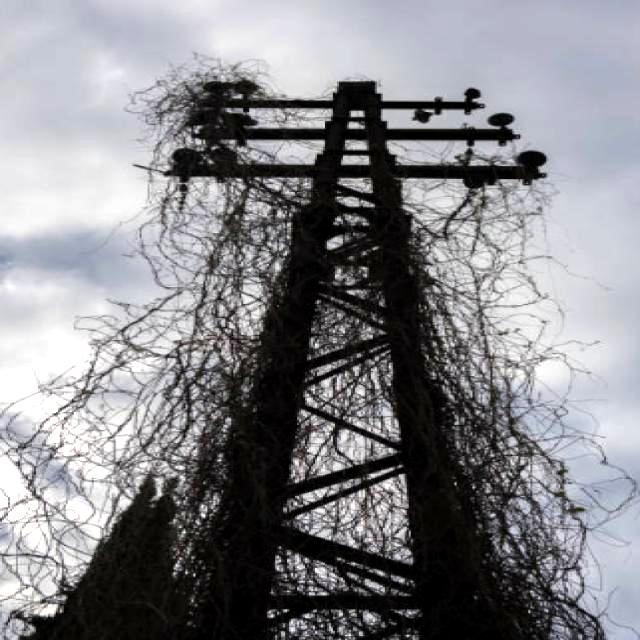critical vegetation: (99, 258, 604, 636), (238, 47, 557, 640), (123, 52, 555, 248), (134, 65, 288, 234)
